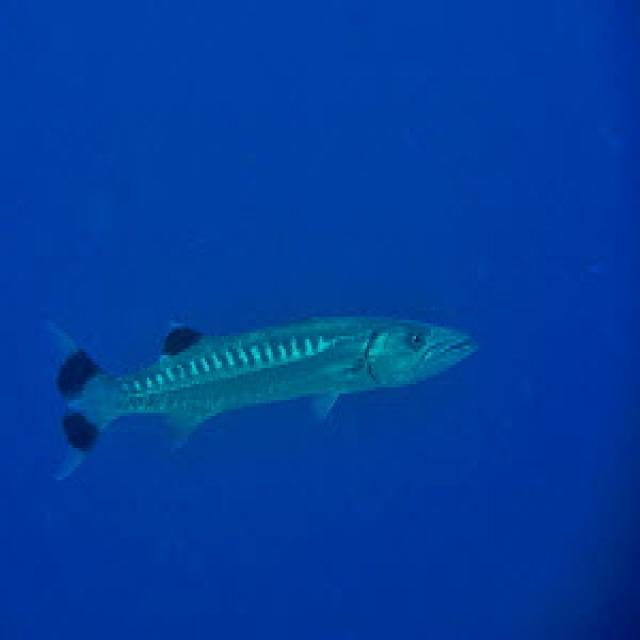Barracuda: (38, 304, 480, 486)
